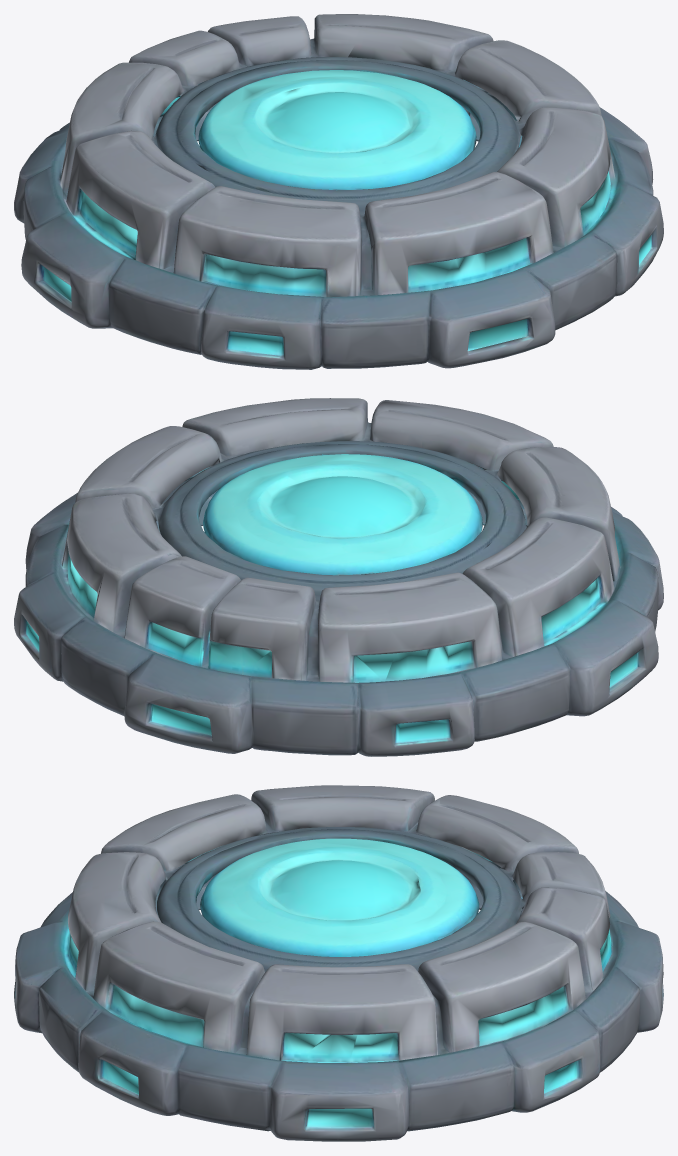
File: portal.glb
3 views of the same model, one above another, from view 1: azimuth 30°, elevation 25°; view 2: azimuth 150°, elevation 25°; view 3: azimuth 270°, elevation 25° (orthographic).
Parts seen in each view (by area): view 1: node_0; view 2: node_0; view 3: node_0.
Boxes of the visible parts, x1,y1,x2,y2 form: node_0: [14, 14, 663, 369]; node_0: [14, 398, 663, 756]; node_0: [14, 785, 663, 1141].
Bounding box in the file's own units: 1.17 × 0.2745 × 1.17.
1 material, 1 textured.
